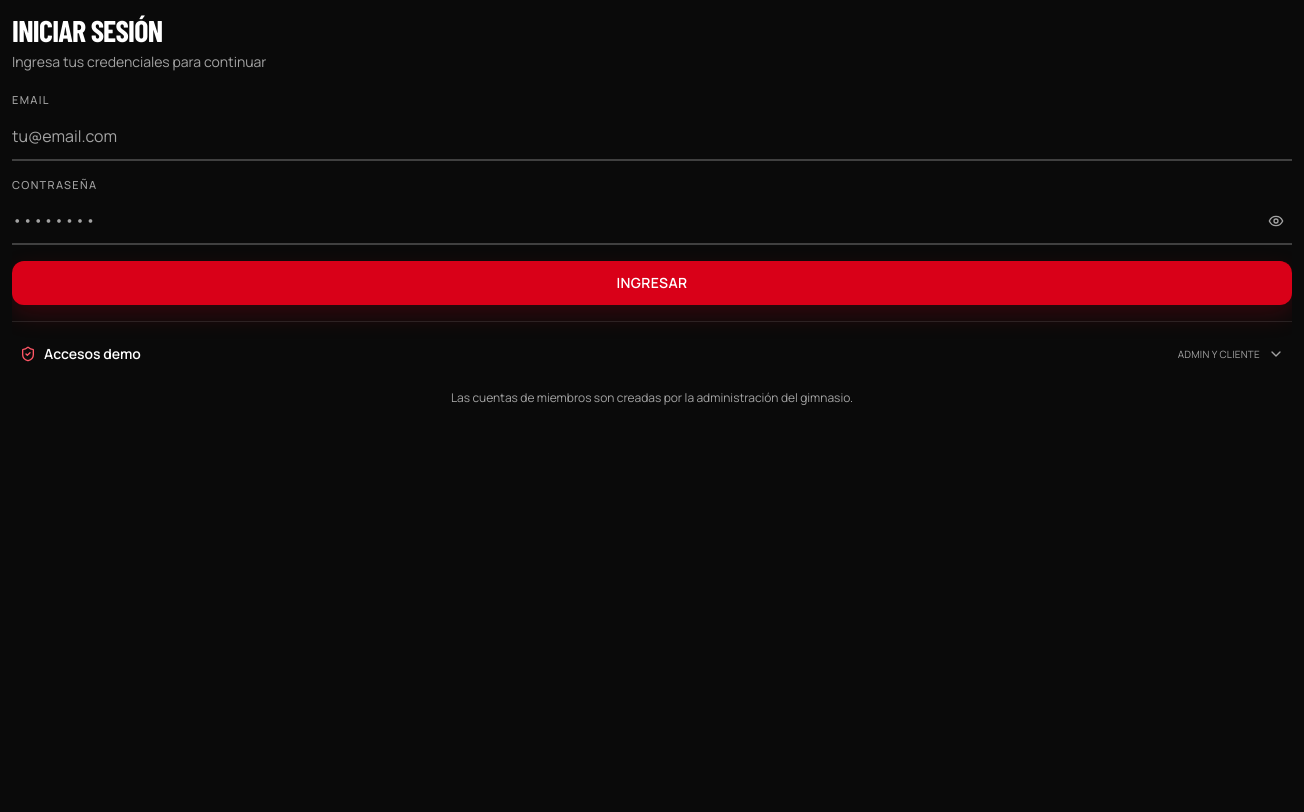
Test case: LoginPage › prepara las credenciales vigentes del cliente demo
Click the button "Accesos demo Admin y cliente" at (92, 354), box top-left (12, 334), bottom-right (1292, 374)
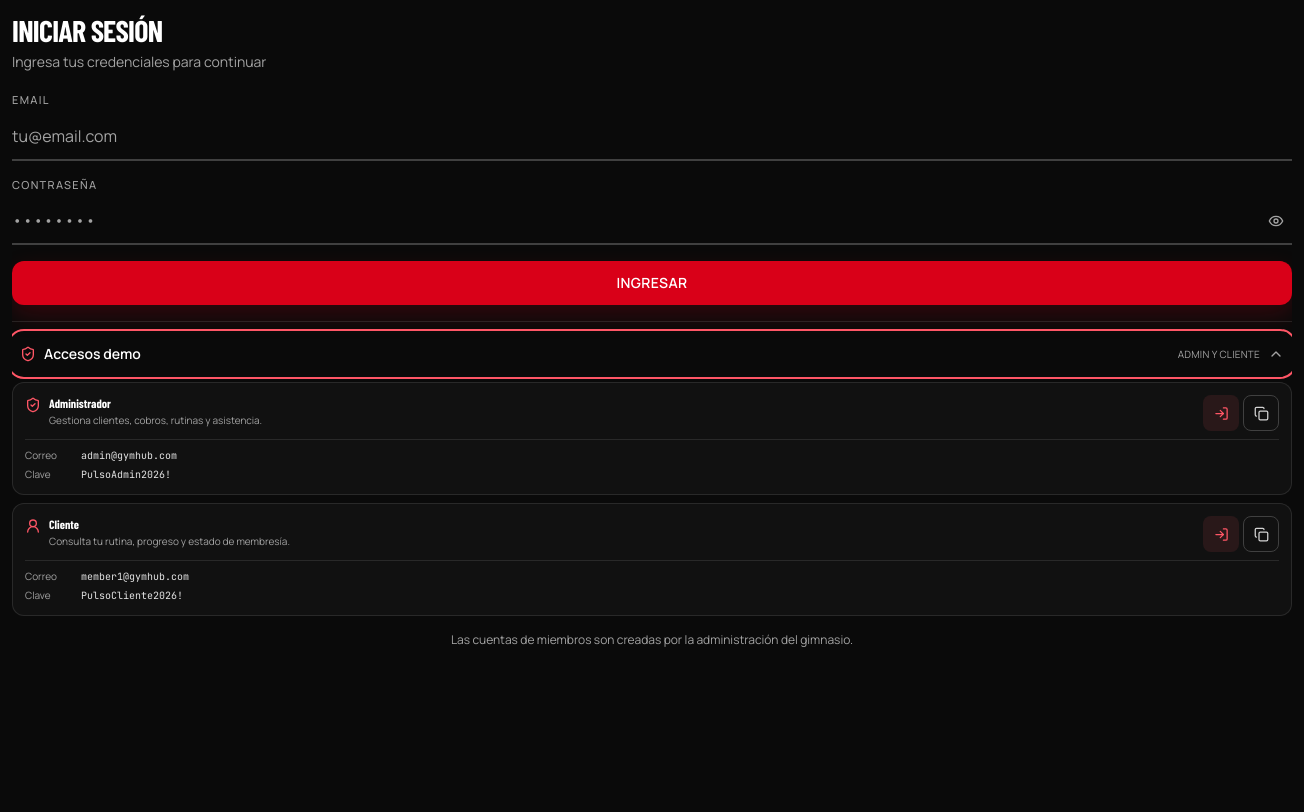
Click the button named "Usar acceso de cliente" at (1221, 534), box top-left (1203, 516), bottom-right (1239, 552)
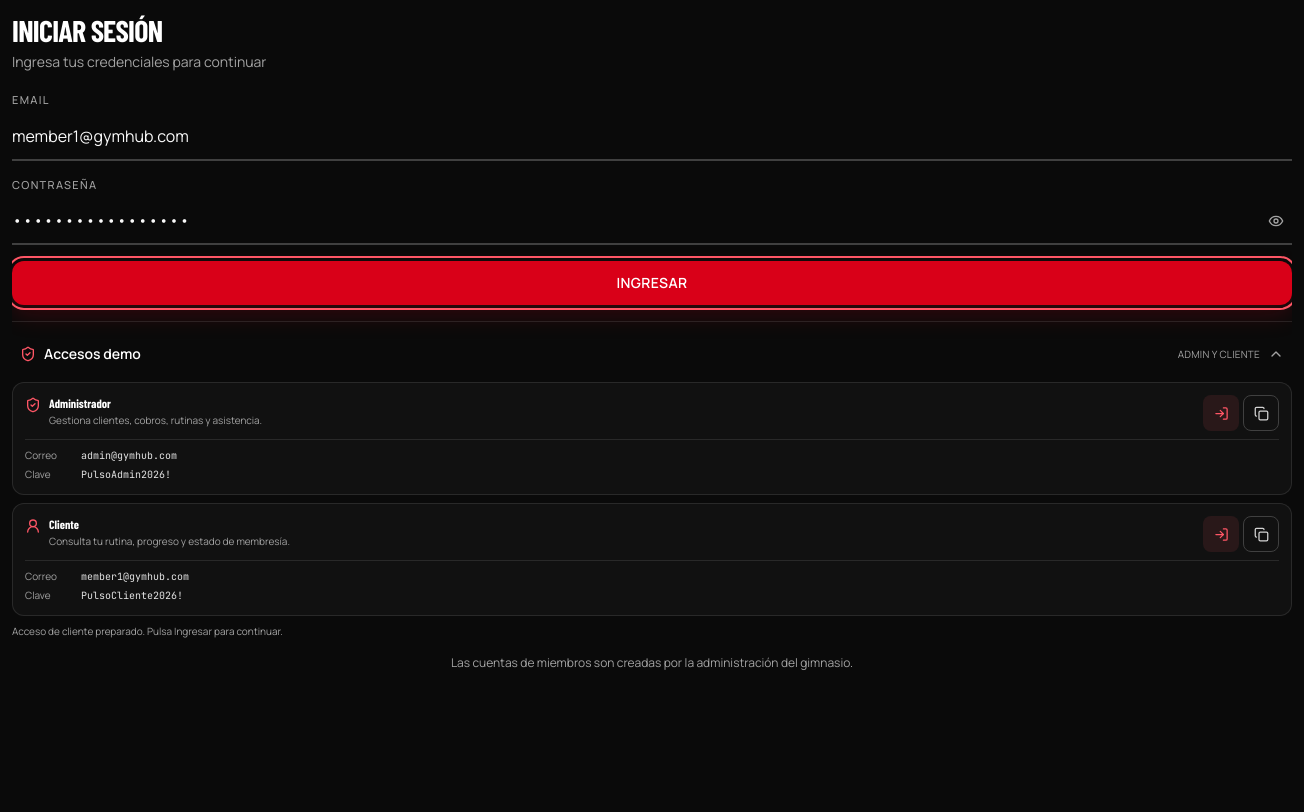
Expected: the field with test id "email-input" holds "member1@gymhub.com", top-left (12, 112), bottom-right (1292, 160)
Expected: the password field with test id "password-input" holds "PulsoCliente2026!", top-left (12, 197), bottom-right (1292, 245)
